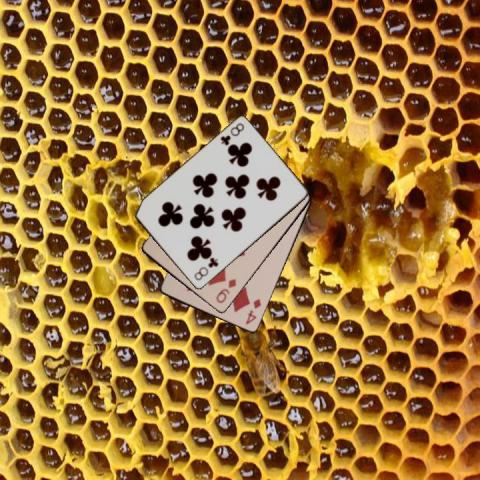4d: (242, 296, 262, 326)
8c: (191, 255, 220, 282), (218, 120, 246, 147)
9d: (213, 276, 237, 305)
